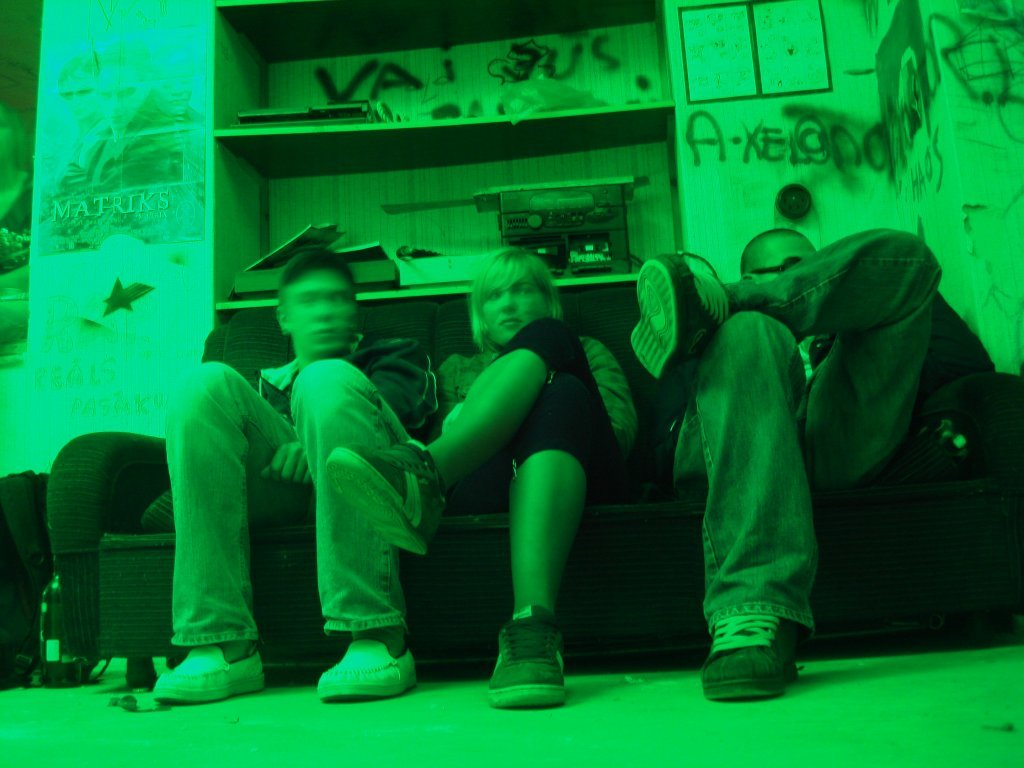person: (430, 245, 638, 507)
